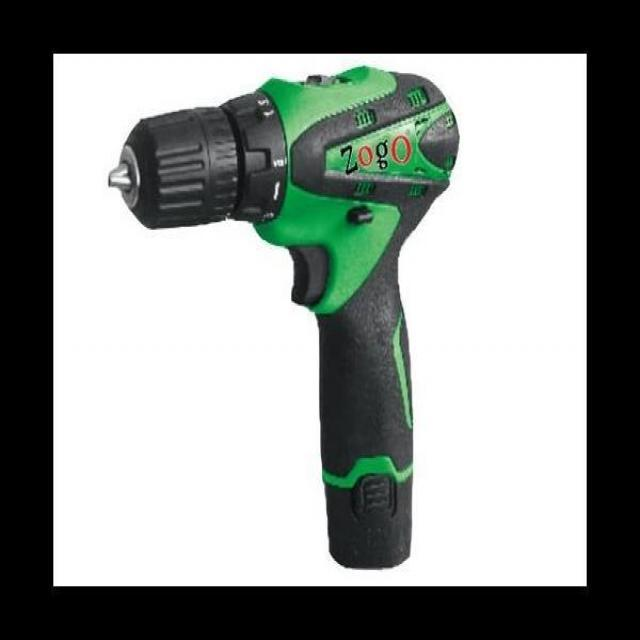drill: (108, 65, 460, 571)
